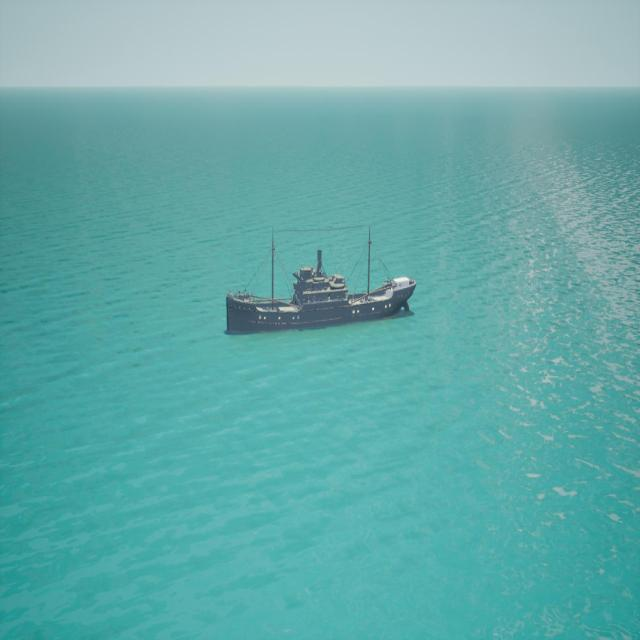fishing ship: (228, 234, 417, 336)
